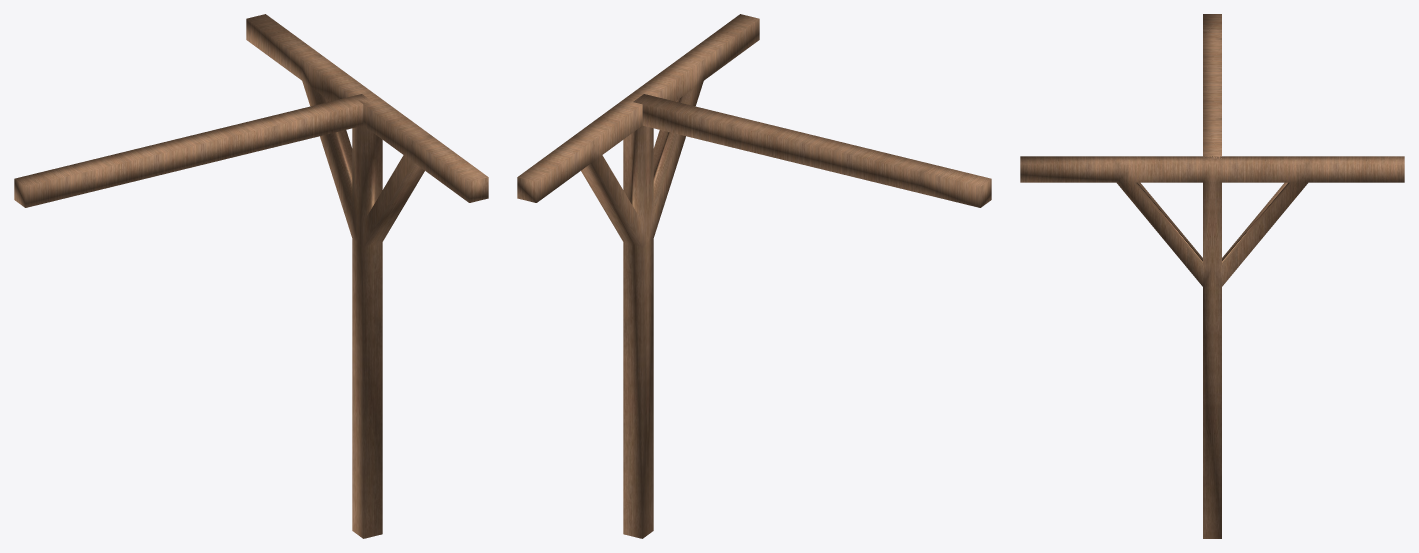
3 renders of one model, left to right at view 1: azimuth 30°, elevation 25°; view 2: azimuth 150°, elevation 25°; view 3: azimuth 270°, elevation 25°, orthographic. The views are drawn at different scales.
Parts seen in each view (by area): view 1: Cube153_Wood_02001_0; view 2: Cube153_Wood_02001_0; view 3: Cube153_Wood_02001_0.
Boxes of the visible parts, left/top/right/bottom form: Cube153_Wood_02001_0: left=14, top=14, right=488, bottom=538; Cube153_Wood_02001_0: left=517, top=14, right=991, bottom=538; Cube153_Wood_02001_0: left=1020, top=14, right=1404, bottom=538.
Size of the model in its own units: 3.7 by 4.3 by 4.
1 material, 1 textured.
